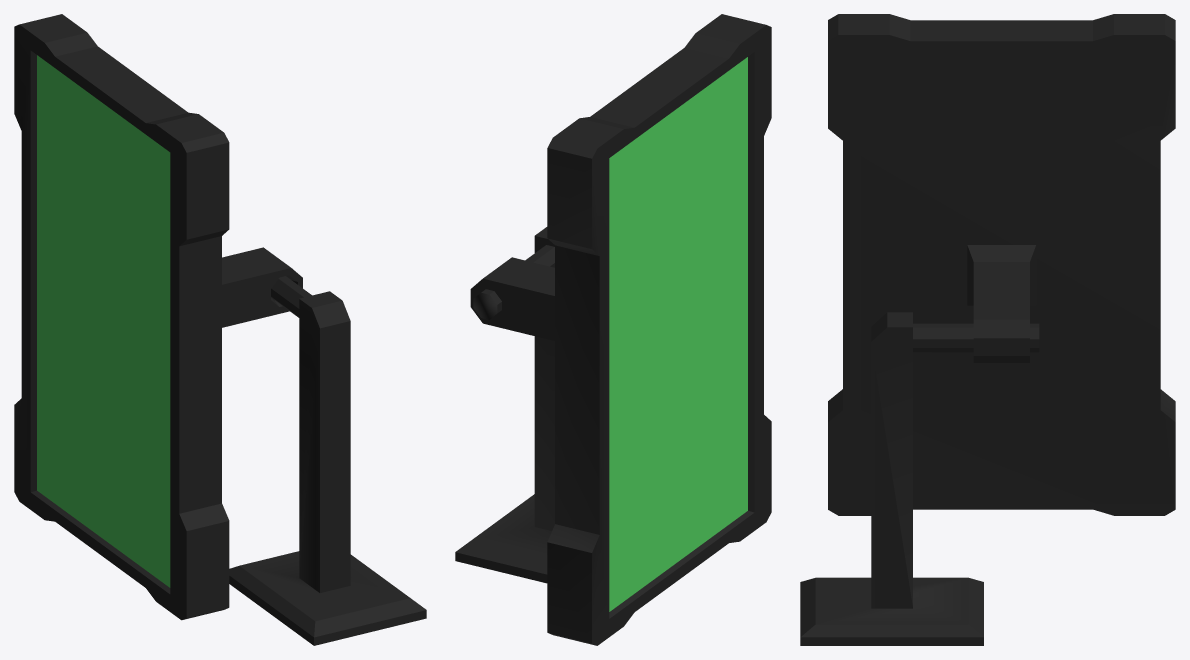
The model's file is Monitor_02_B.fbx.
3 renders of one model, left to right at view 1: azimuth 30°, elevation 25°; view 2: azimuth 150°, elevation 25°; view 3: azimuth 270°, elevation 25°, orthographic. The views are drawn at different scales.
Visible parts, largest first — view 1: Monitor_02_B, Monitor_02_Support; view 2: Monitor_02_B, Monitor_02_Support; view 3: Monitor_02_B, Monitor_02_Support.
Boxes of the visible parts, x1,y1,x2,y2 form: Monitor_02_B: (14,14,302,620); Monitor_02_Support: (229,276,426,645); Monitor_02_B: (470,14,771,645); Monitor_02_Support: (455,227,554,583); Monitor_02_B: (828,14,1175,515); Monitor_02_Support: (800,312,1039,645).
Bounding box in the file's own units: 41.6 × 90.72 × 59.23.
